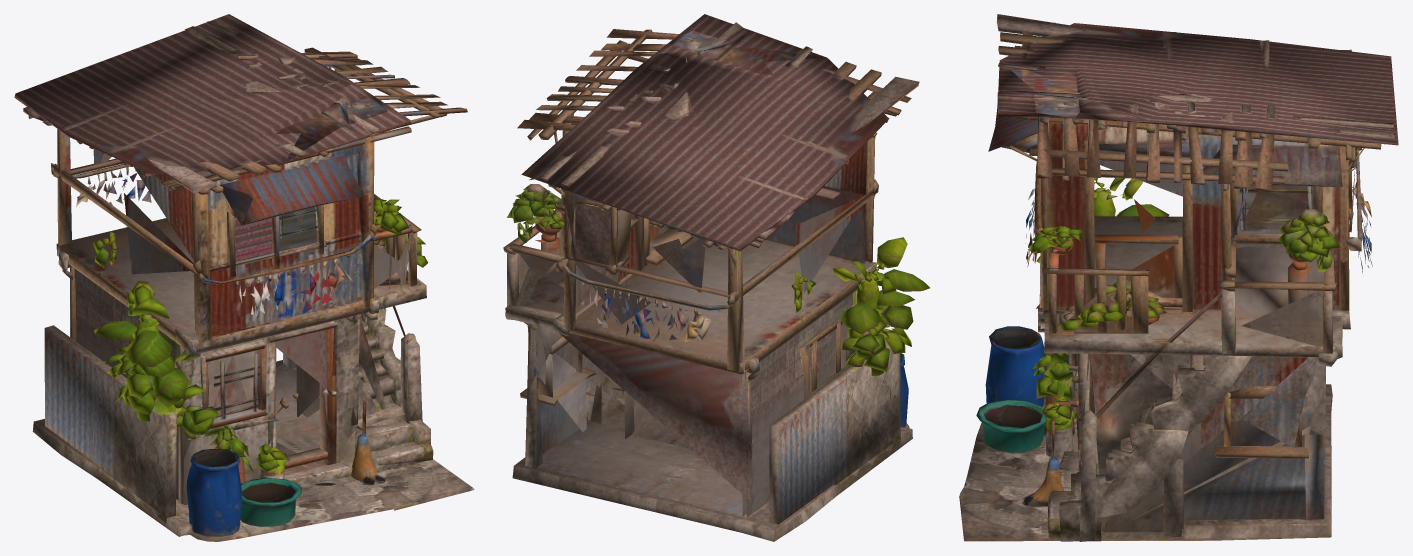
Rendered from house_3.glb.
3 renders of one model, left to right at view 1: azimuth 30°, elevation 25°; view 2: azimuth 150°, elevation 25°; view 3: azimuth 270°, elevation 25°, orthographic. The views are drawn at different scales.
Parts seen in each view (by area): view 1: Mesh0; view 2: Mesh0; view 3: Mesh0.
Boxes of the visible parts, left/top/right/bottom form: Mesh0: left=14, top=14, right=474, bottom=541; Mesh0: left=503, top=14, right=929, bottom=541; Mesh0: left=959, top=14, right=1398, bottom=541.
Bounding box in the file's own units: 0.9295 × 0.9992 × 0.9874.
Materials: 1 (1 with a texture image).
